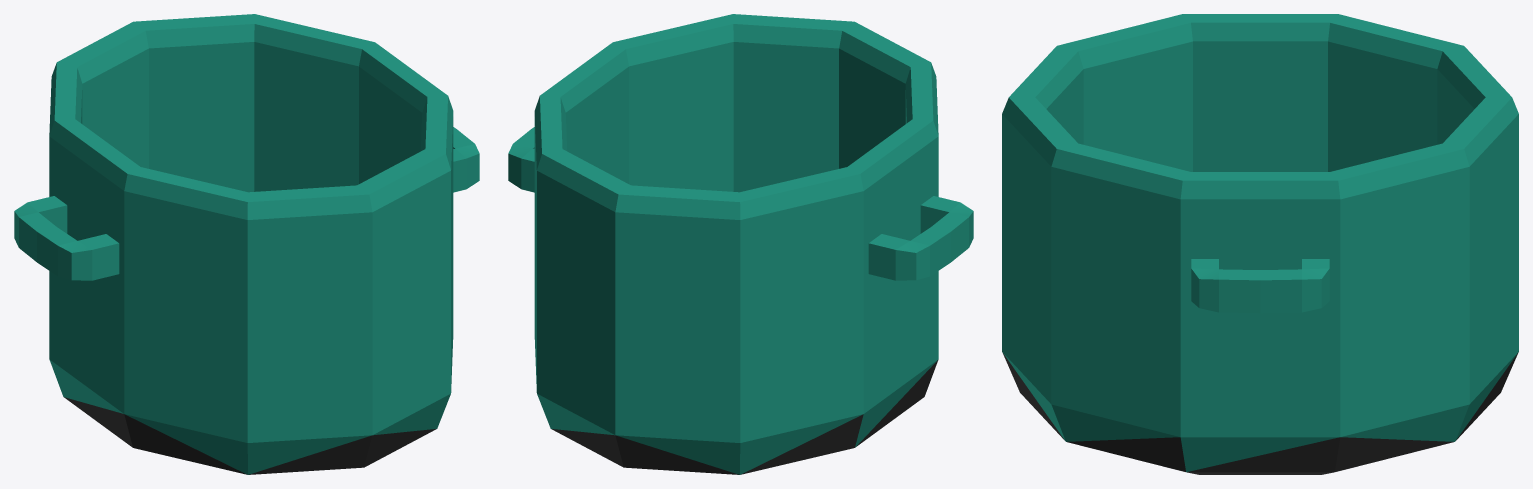
Rendered from pot_a.glb.
The picture shows the model from 3 angles, left to right: view 1: azimuth 30°, elevation 25°; view 2: azimuth 150°, elevation 25°; view 3: azimuth 270°, elevation 25°; orthographic projection. The views are drawn at different scales.
Visible parts, largest first — view 1: body; view 2: body; view 3: body.
Part boxes in pixels (x1=…): body: x1=14, y1=14, x2=479, y2=474; body: x1=508, y1=14, x2=973, y2=474; body: x1=1002, y1=14, x2=1518, y2=474.
Size of the model in its own units: 0.24 by 0.16 by 0.24.
